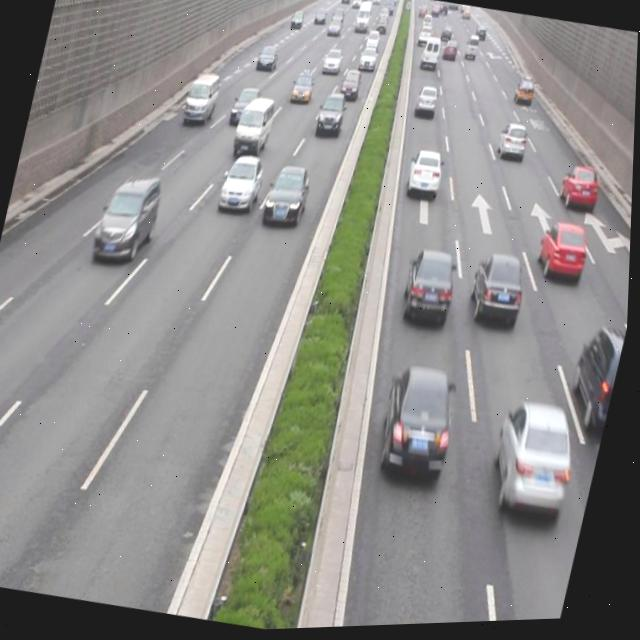car: (484, 398, 587, 532), (371, 362, 467, 494), (566, 324, 630, 442), (91, 173, 165, 268), (396, 244, 465, 337), (465, 251, 533, 334), (534, 224, 594, 292), (262, 164, 316, 231), (217, 151, 267, 217), (556, 163, 604, 219), (403, 147, 449, 205), (314, 94, 348, 142), (495, 124, 531, 169), (230, 86, 263, 128)
truck: (233, 96, 277, 157), (182, 71, 222, 127)
